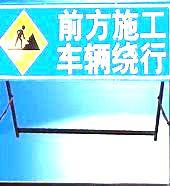sign: (1, 5, 169, 78)
